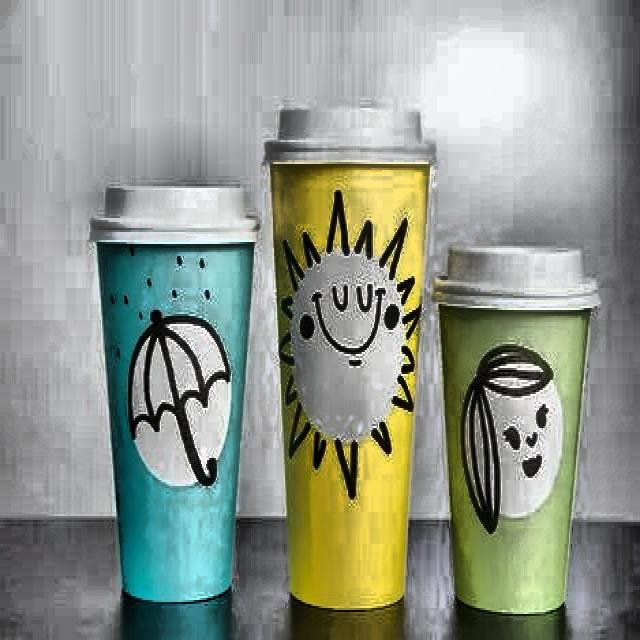Cup: (268, 107, 437, 609), (87, 191, 250, 607), (438, 231, 598, 619)
